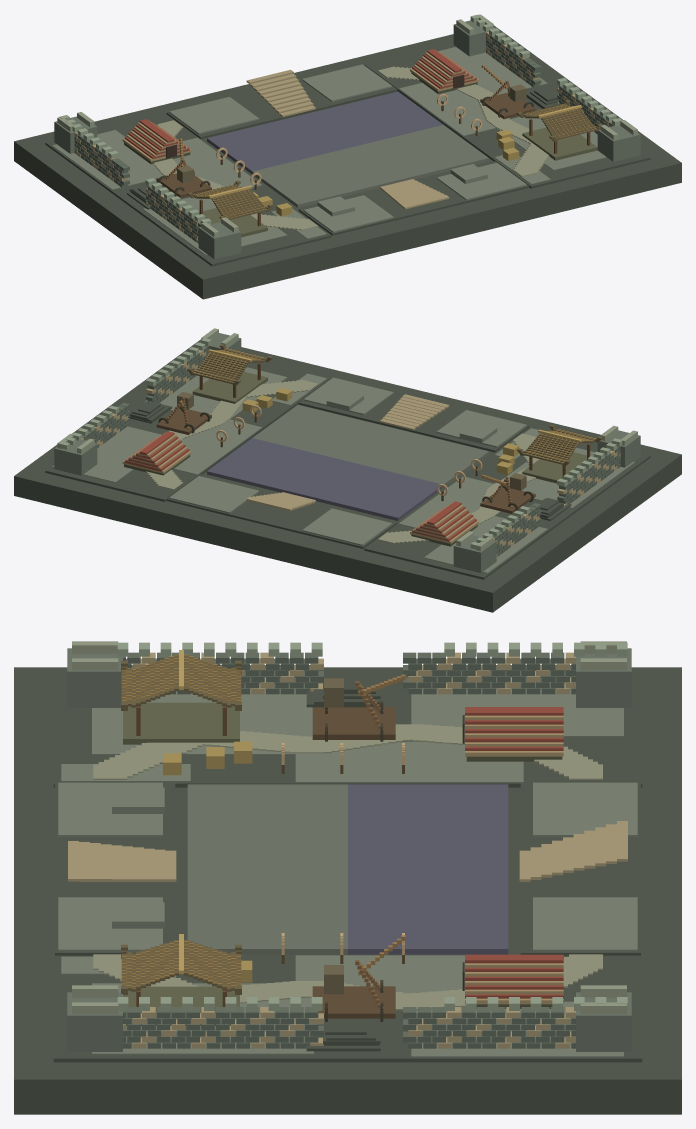
File: preview-castle.glb
The picture shows the model from 3 angles, top to bottom: view 1: azimuth 30°, elevation 25°; view 2: azimuth 150°, elevation 25°; view 3: azimuth 270°, elevation 25°; orthographic projection. The views are drawn at different scales.
Visible parts, largest first — view 1: Miniature_Plinth, Miniature_Original_Board, Miniature_Approach_Flanking_Terraces, Miniature_East_Landscape_Terrain_Fields, Miniature_Landscape_Terrain_Fields, Miniature_Approach_Terrain, Miniature_East_Landscape_Terrain_Base, Miniature_Landscape_Terrain_Base, Miniature_Approach_Entry_Stair, Miniature_Landscape_Fortress_Masonry, Miniature_East_Landscape_Curved_Stone_Walk, Miniature_East_Landscape_Curtain_Tower (+20 smaller); view 2: Miniature_Plinth, Miniature_Original_Board, Miniature_Approach_Flanking_Terraces, Miniature_East_Landscape_Terrain_Fields, Miniature_Approach_Terrain, Miniature_Landscape_Terrain_Fields, Miniature_East_Landscape_Terrain_Base, Miniature_Landscape_Terrain_Base, Miniature_Landscape_Fortress_Masonry, Miniature_Approach_Entry_Stair, Miniature_East_Landscape_Fortress_Masonry, Miniature_East_Landscape_Curved_Stone_Walk (+22 smaller); view 3: Miniature_Plinth, Miniature_Original_Board, Miniature_Approach_Flanking_Terraces, Miniature_Landscape_Terrain_Fields, Miniature_East_Landscape_Fortress_Masonry, Miniature_East_Landscape_Terrain_Base, Miniature_Landscape_Terrain_Base, Miniature_Approach_Terrain, Miniature_Landscape_Fortress_Masonry, Miniature_East_Landscape_Terrain_Fields, Miniature_Approach_Entry_Stair, Miniature_Landscape_Curved_Stone_Walk (+21 smaller).
Part boxes in pixels (bbox=[...]): Miniature_Plinth: bbox=[14, 25, 681, 299]; Miniature_Original_Board: bbox=[207, 91, 488, 207]; Miniature_Approach_Flanking_Terraces: bbox=[169, 64, 526, 232]; Miniature_East_Landscape_Terrain_Fields: bbox=[399, 47, 606, 184]; Miniature_Landscape_Terrain_Fields: bbox=[52, 130, 326, 255]; Miniature_Approach_Terrain: bbox=[166, 65, 529, 235]; Miniature_East_Landscape_Terrain_Base: bbox=[364, 43, 650, 188]; Miniature_Landscape_Terrain_Base: bbox=[45, 113, 331, 266]; Miniature_Approach_Entry_Stair: bbox=[246, 69, 449, 209]; Miniature_Landscape_Fortress_Masonry: bbox=[74, 132, 201, 243]; Miniature_East_Landscape_Curved_Stone_Walk: bbox=[377, 66, 549, 176]; Miniature_East_Landscape_Curtain_Tower: bbox=[453, 20, 640, 161]; Miniature_Plinth: bbox=[14, 339, 681, 612]; Miniature_Original_Board: bbox=[207, 405, 488, 520]; Miniature_Approach_Flanking_Terraces: bbox=[169, 377, 526, 545]; Miniature_East_Landscape_Terrain_Fields: bbox=[52, 367, 326, 482]; Miniature_Approach_Terrain: bbox=[166, 378, 529, 548]; Miniature_Landscape_Terrain_Fields: bbox=[399, 428, 634, 573]; Miniature_East_Landscape_Terrain_Base: bbox=[45, 361, 331, 501]; Miniature_Landscape_Terrain_Base: bbox=[364, 426, 650, 579]; Miniature_Landscape_Fortress_Masonry: bbox=[493, 446, 620, 557]; Miniature_Approach_Entry_Stair: bbox=[246, 394, 449, 511]; Miniature_East_Landscape_Fortress_Masonry: bbox=[81, 345, 209, 447]; Miniature_East_Landscape_Curved_Stone_Walk: bbox=[145, 379, 317, 489]; Miniature_Plinth: bbox=[14, 667, 681, 1114]; Miniature_Original_Board: bbox=[187, 784, 508, 954]; Miniature_Approach_Flanking_Terraces: bbox=[58, 782, 637, 951]; Miniature_Landscape_Terrain_Fields: bbox=[61, 682, 623, 782]; Miniature_East_Landscape_Fortress_Masonry: bbox=[123, 1007, 575, 1048]; Miniature_East_Landscape_Terrain_Base: bbox=[53, 955, 642, 1062]; Miniature_Landscape_Terrain_Base: bbox=[53, 681, 642, 787]; Miniature_Approach_Terrain: bbox=[55, 783, 640, 955]; Miniature_Landscape_Fortress_Masonry: bbox=[123, 652, 575, 694]; Miniature_East_Landscape_Terrain_Fields: bbox=[61, 955, 623, 1057]; Miniature_Approach_Entry_Stair: bbox=[68, 821, 627, 881]; Miniature_Landscape_Curved_Stone_Walk: bbox=[93, 724, 602, 779].
Size of the model in its own units: 7.6 by 0.8816 by 5.2.
